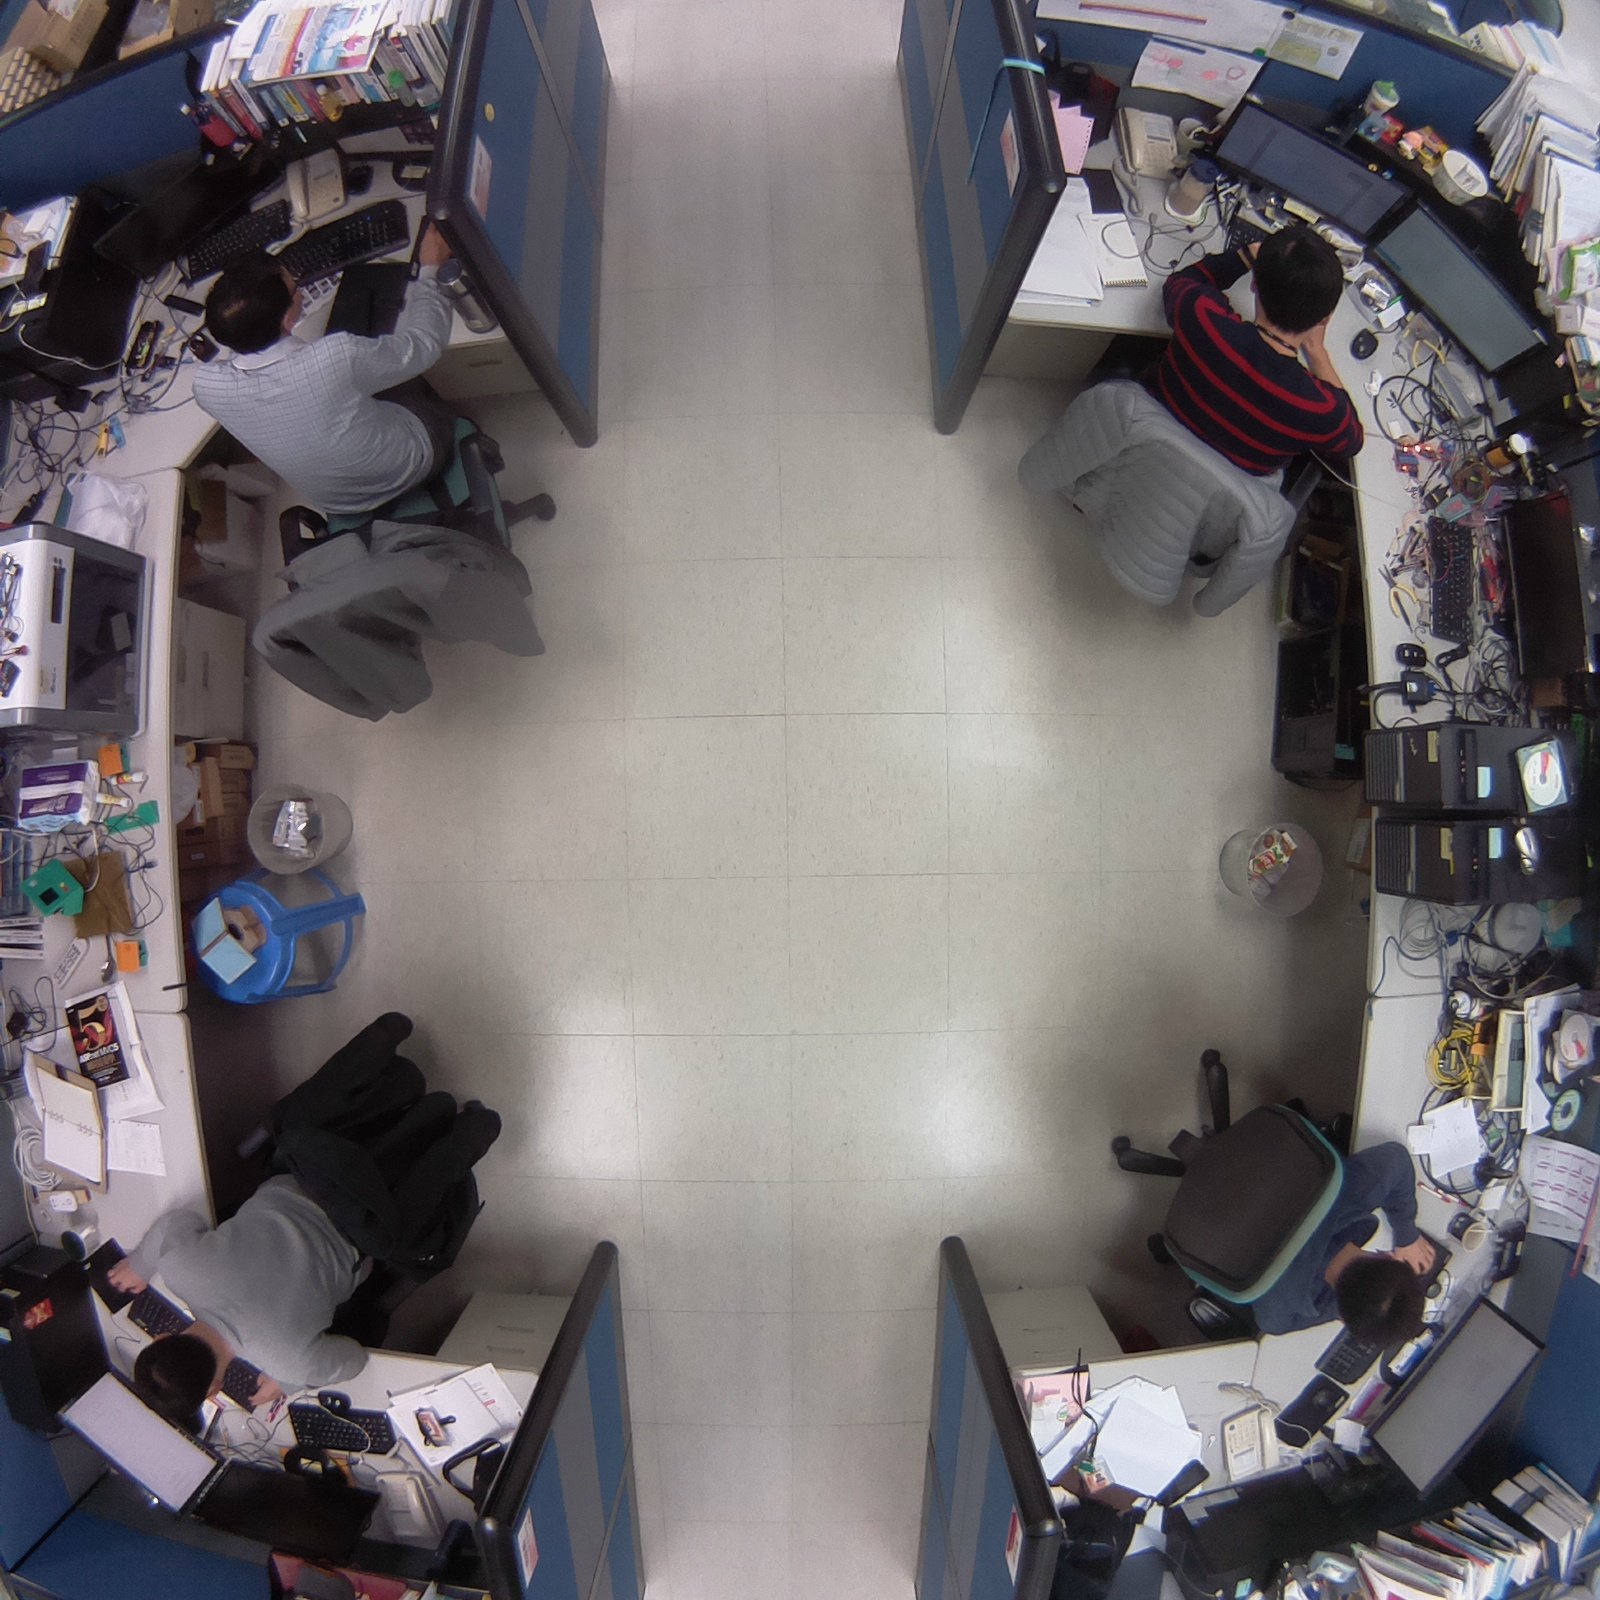head: (1244, 219, 1355, 342), (193, 242, 308, 357), (1325, 1246, 1434, 1351), (129, 1314, 234, 1421)
sitting: (170, 227, 573, 737), (109, 983, 555, 1440), (1001, 204, 1363, 645), (1086, 1037, 1437, 1352)
